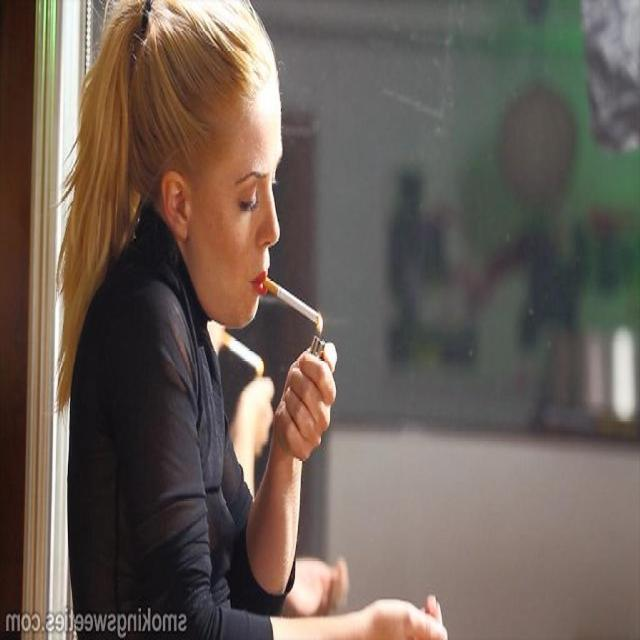smoking: (126, 0, 355, 451)
